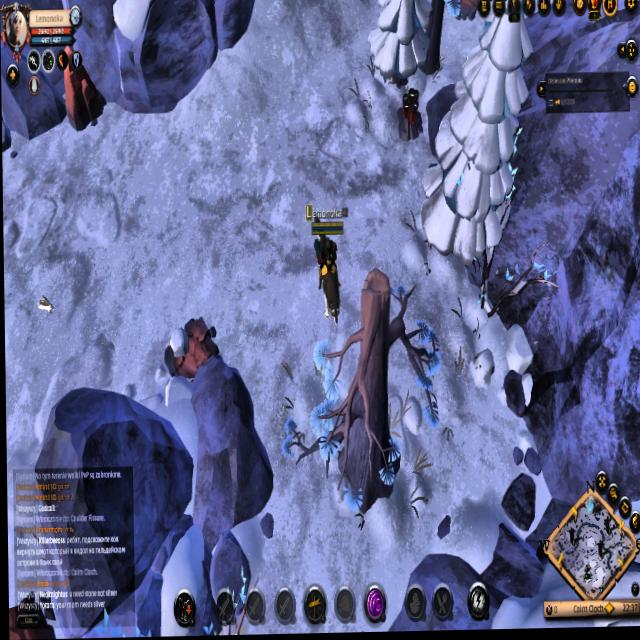ore tier 5: (396, 86, 423, 143)
